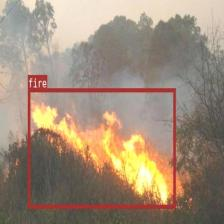fire: (27, 87, 175, 208)
